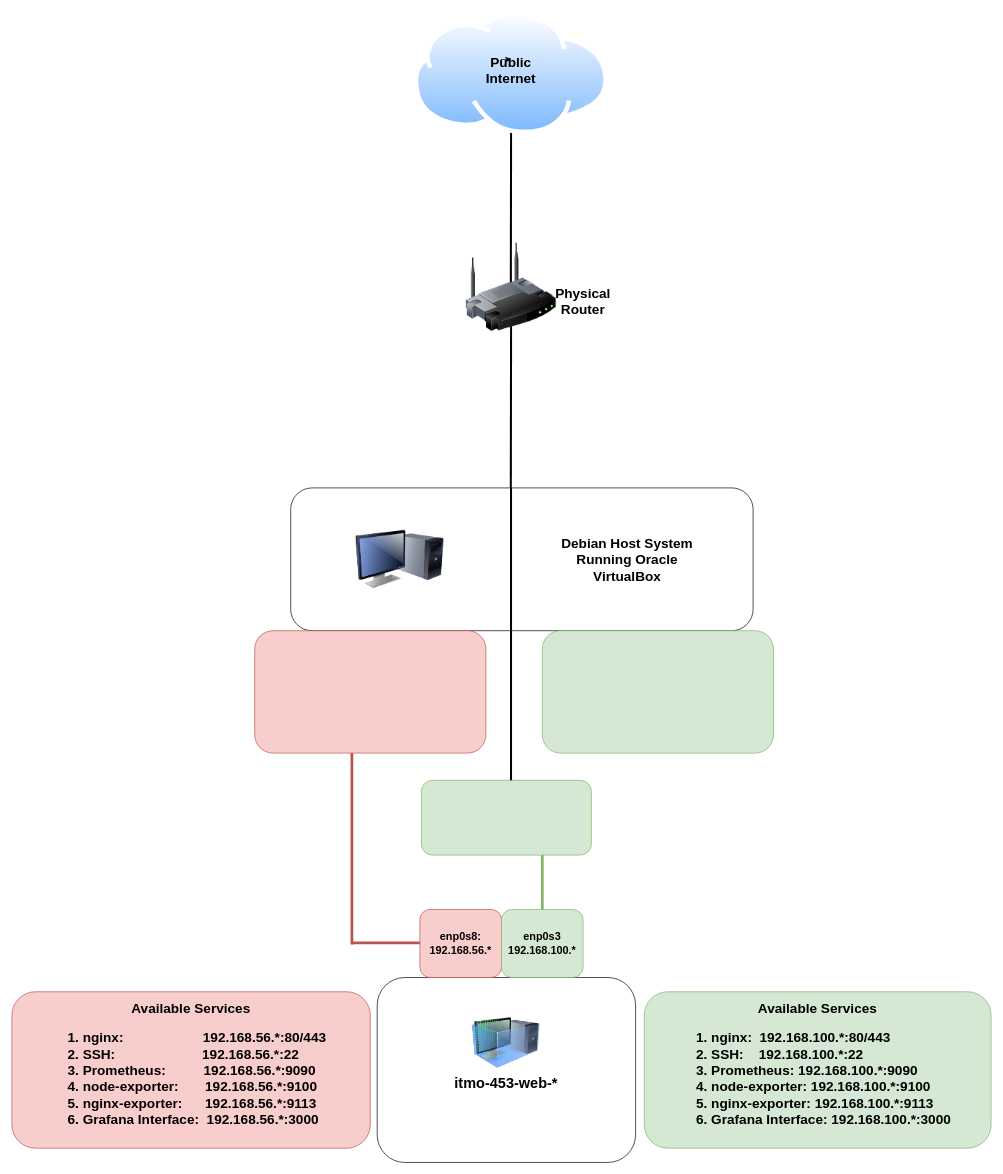
Image size: 1003x1174. Some labels were removed from this diagram. Each missing label, with the centre of its shape:
"Vbox Host Only Network IPv4 Network: 192.168.56.1/24" belongs at (x=370, y=691).
"Vbox NAT Network IPv4 Network: 192.168.100.0/24" belongs at (x=658, y=691).
"Virtual Gateway" belongs at (x=506, y=817).
